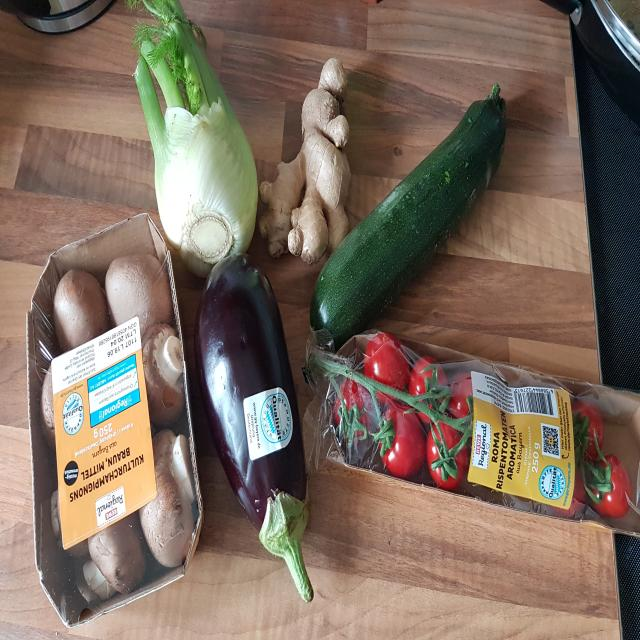eggplant: (195, 256, 315, 605)
fennel: (124, 0, 259, 280)
ginger: (255, 56, 356, 266)
mushroom: (138, 424, 198, 572), (79, 505, 145, 604), (106, 252, 172, 340), (52, 268, 109, 358), (139, 321, 185, 429), (53, 268, 109, 356), (40, 355, 74, 456), (48, 472, 85, 558)
tomato: (378, 404, 426, 476), (586, 452, 633, 525), (334, 374, 376, 454), (363, 331, 410, 400), (424, 422, 470, 492), (409, 356, 451, 424), (447, 367, 486, 429), (569, 396, 606, 457), (555, 456, 586, 522)
yogurt: (308, 83, 511, 352)
